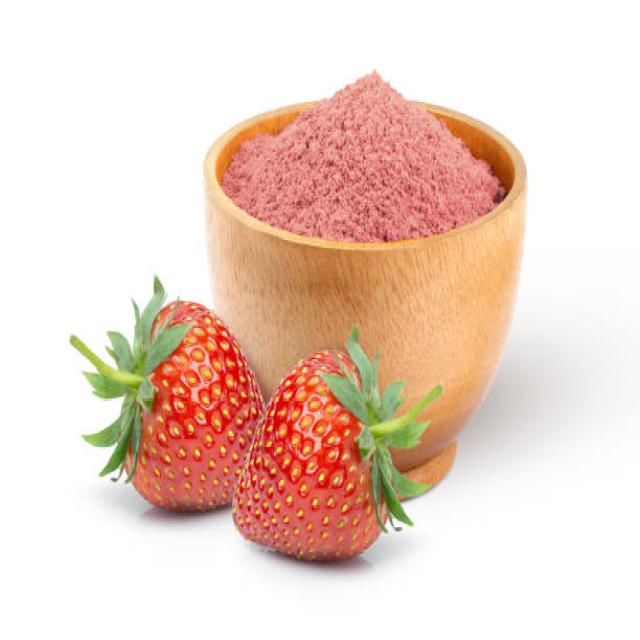Healthy Fruit: (232, 353, 387, 562), (117, 300, 266, 510)
